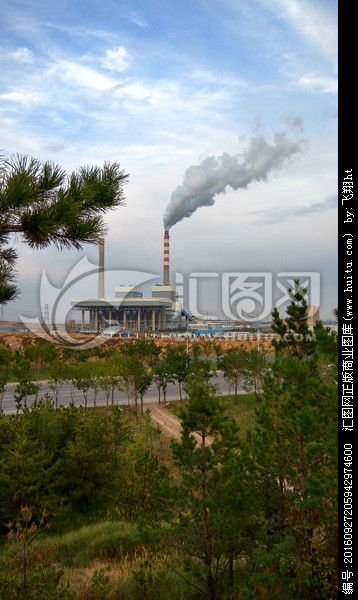dust: (147, 144, 287, 226)
